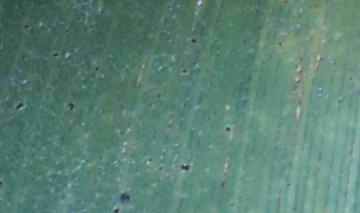tarspot: (117, 190, 132, 202), (178, 163, 191, 172), (63, 101, 74, 111), (13, 101, 25, 110), (20, 22, 31, 30), (223, 125, 232, 134), (49, 50, 59, 58), (226, 201, 235, 209), (187, 37, 197, 44), (218, 179, 226, 187), (179, 68, 188, 75), (239, 38, 248, 45), (93, 65, 101, 72), (86, 23, 94, 30), (146, 157, 153, 164), (63, 27, 70, 33), (284, 180, 290, 187), (277, 40, 283, 47), (113, 207, 120, 213), (347, 74, 353, 81), (1, 179, 5, 188), (81, 26, 85, 32), (156, 92, 159, 99), (283, 1, 290, 4)
